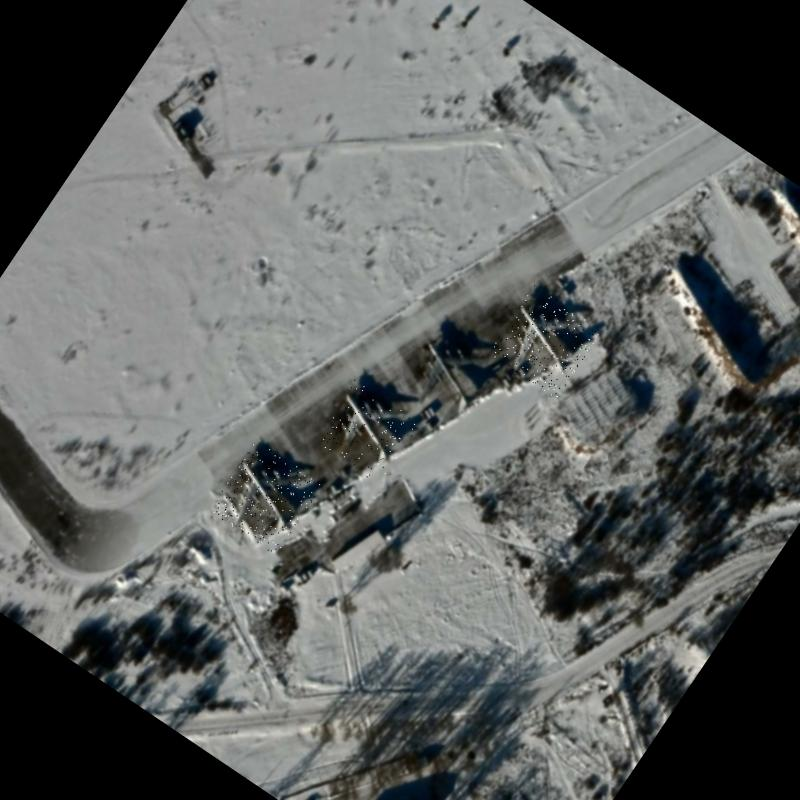A17: (208, 439, 324, 556), (488, 286, 602, 399), (395, 322, 505, 432), (313, 378, 421, 486)
